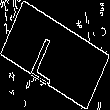L_NE: (34, 25, 76, 85)
